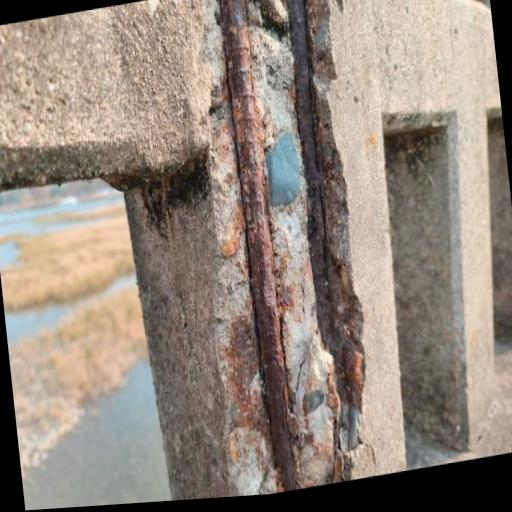exposed_rebar: (221, 0, 296, 491), (286, 0, 334, 353)
spalling: (202, 0, 365, 496)
